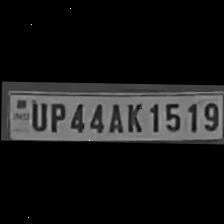1: (182, 98, 200, 131), (142, 100, 160, 132)
4: (64, 98, 86, 131), (84, 98, 106, 131)
5: (158, 99, 182, 131)
9: (198, 98, 220, 129)
A: (104, 98, 124, 132)
K: (122, 99, 144, 132)
P: (44, 97, 64, 130)
U: (27, 98, 46, 129)
